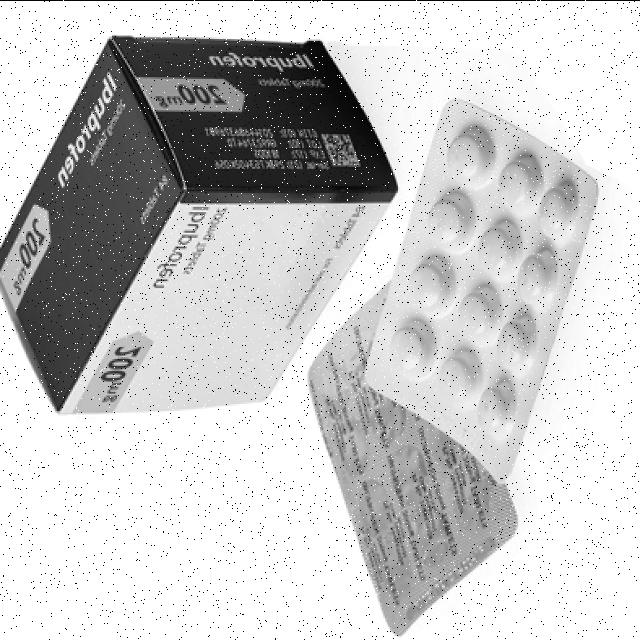datamatrix: (318, 128, 364, 171)
